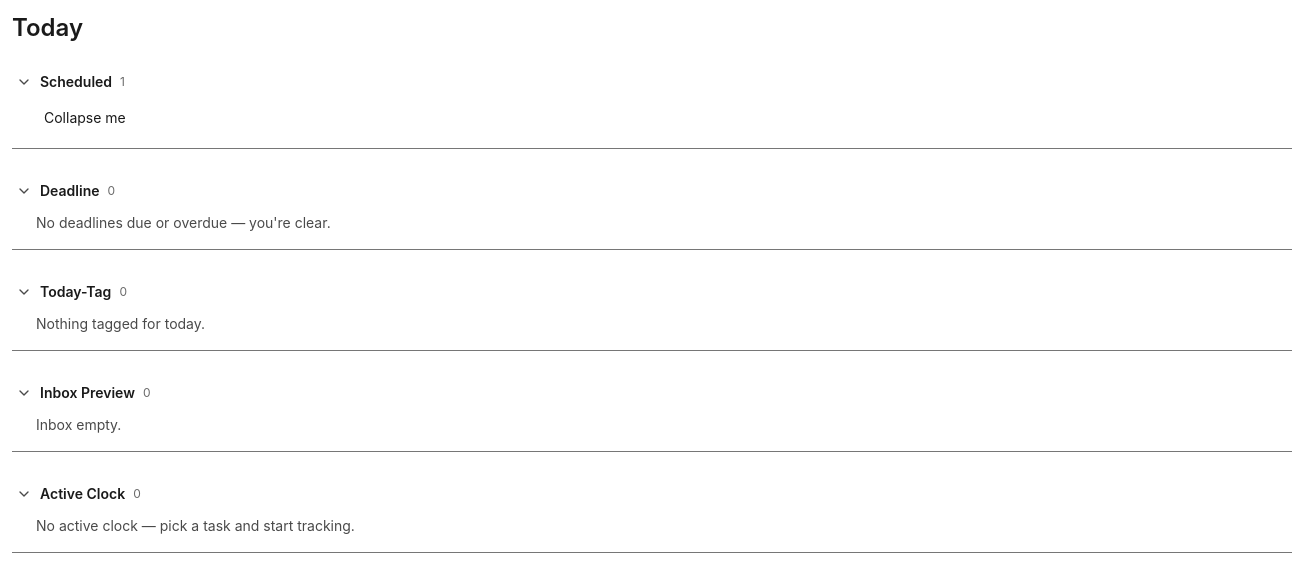
Test: TodayDashboard (Story 7.1, FR-6) › collapses a section body when its chevron toggle is clicked
What coordinates should you click on to do the following:
click the button "Scheduled 1"
I would click on:
 (76, 82)
Its box is top-left (12, 68), bottom-right (1292, 96).
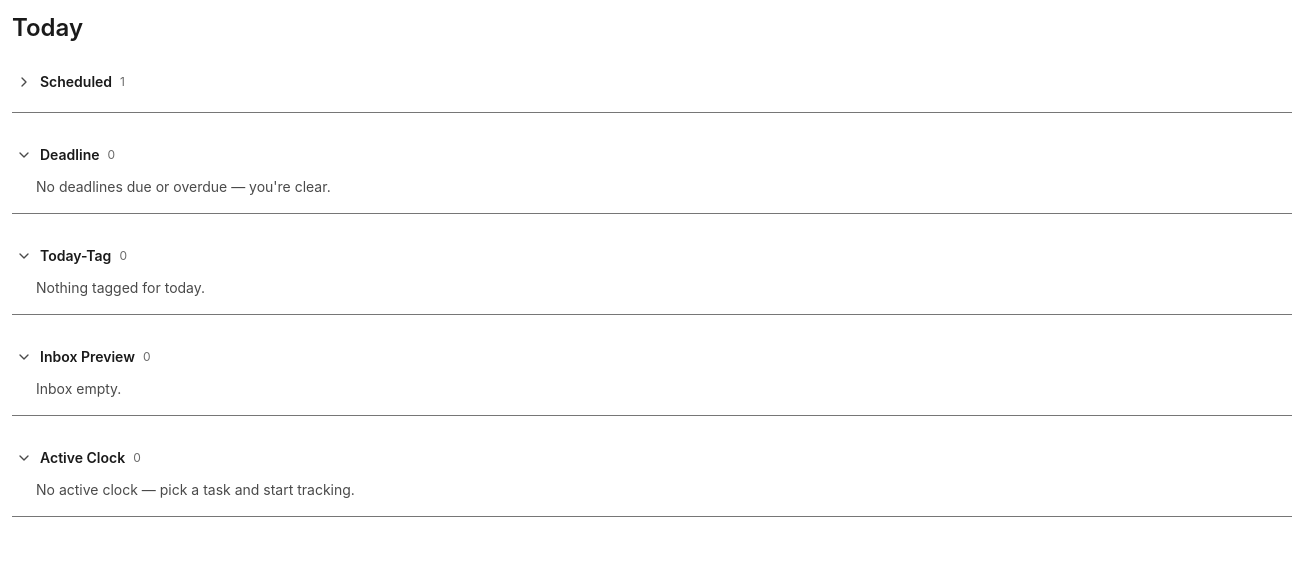
Expected: the text "Collapse me" is gone
